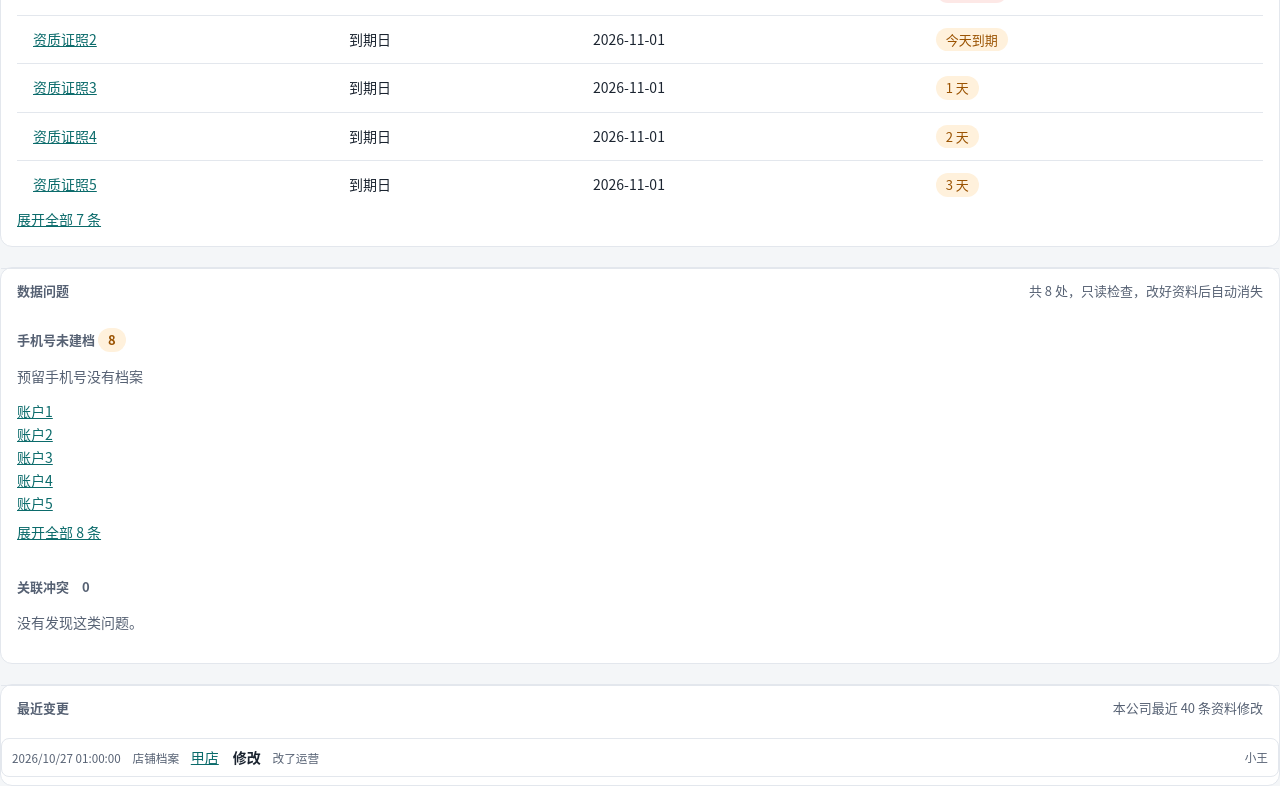
Test case: 资料总览 › 数据问题只预览 5 条可展开，没问题的分组写明；最近变更显示资料名、操作和操作人
The image size is (1280, 786).
(page scrolled)
expect the text "账户6" is not shown: met
Click the button "展开全部 8 条": (59, 532) left=17, top=522, right=101, bottom=543
(page scrolled)
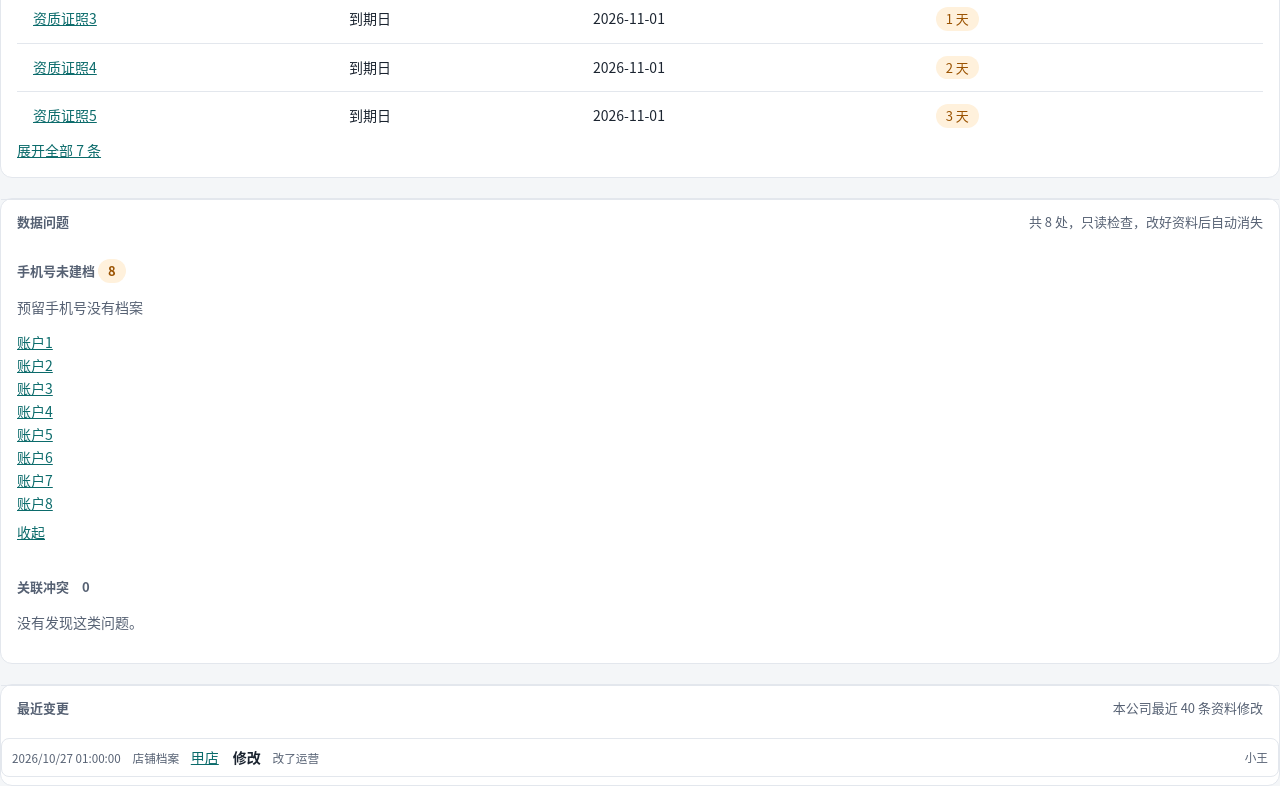
expect the element named "数据问题：关联冲突" shows "没有发现这类问题": met, box left=17, top=612, right=143, bottom=632
expect the link "账户8" is shown: met, box left=17, top=493, right=53, bottom=513
